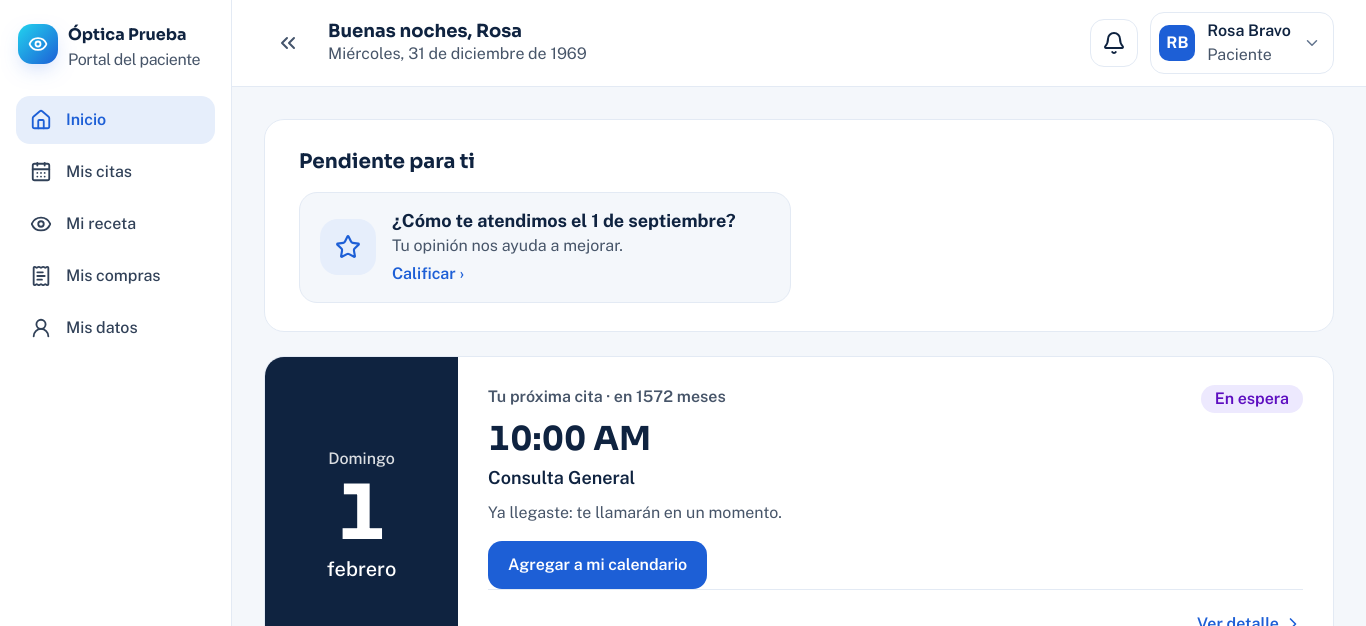
Test: Mis citas › cada fila del historial abre su detalle y, en una atendida, deja calificar una sola vez
The width and height of the screenshot is (1366, 626).
Click the button "Mis citas": (116, 172) [16,148,215,196]
(page scrolled)
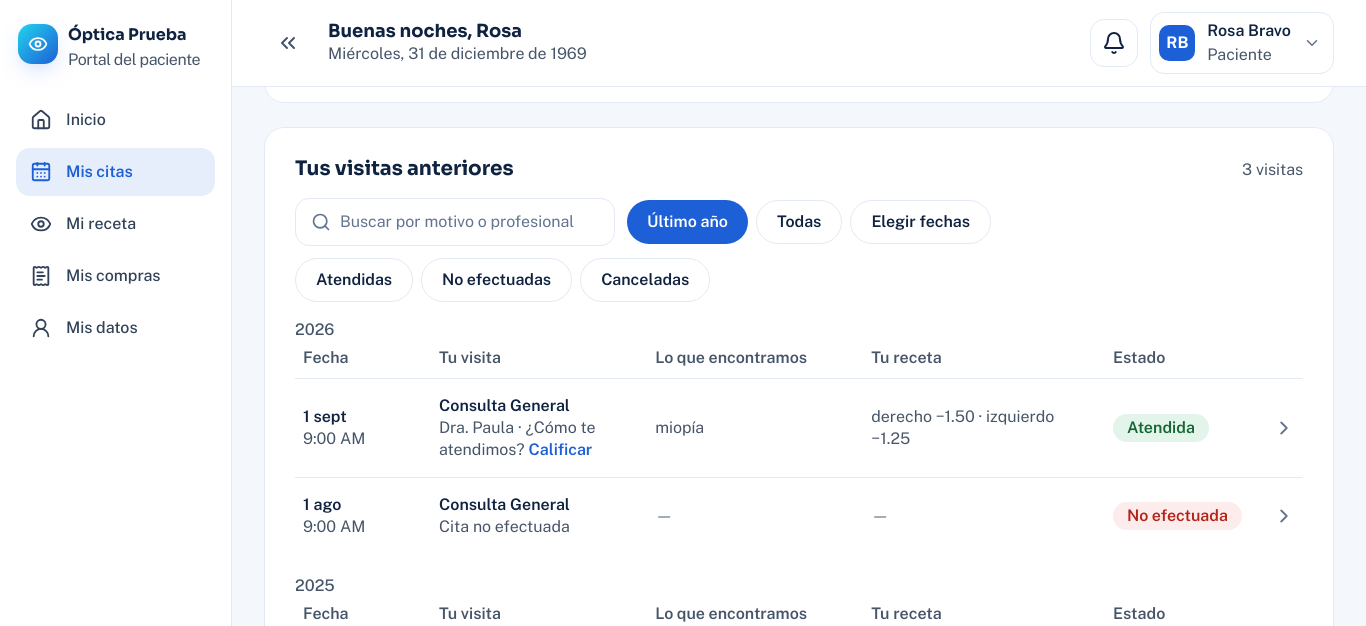
Click the button named "Ver el detalle de tu cita del 1 sept 2026": (799, 428) [295,379,1303,477]
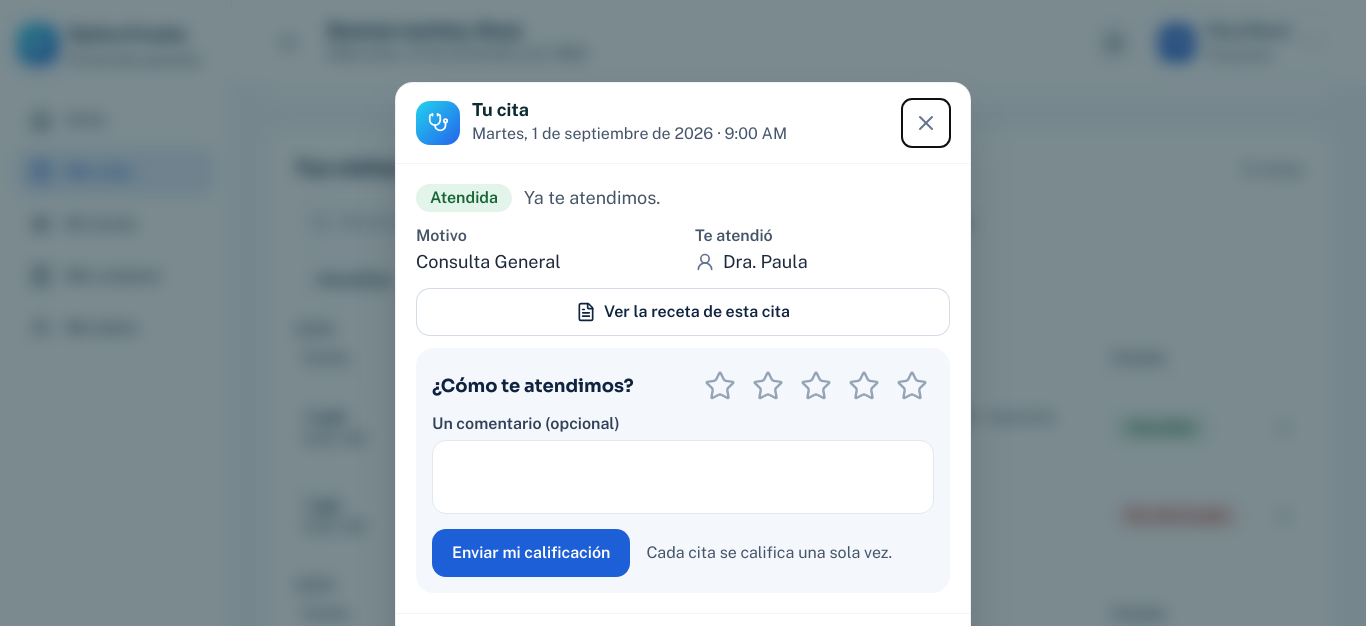
Check: the dialog "Tu cita" shows "Te atendió", box [695,226,773,244]
Check: the dialog "Tu cita" shows "Dra. Paula", box [723,250,808,272]
Check: the button "Ver la receta de esta cita" is shown, box [416,288,950,336]
Click the button "Enviar mi calificación": (531, 552) [432,528,630,576]
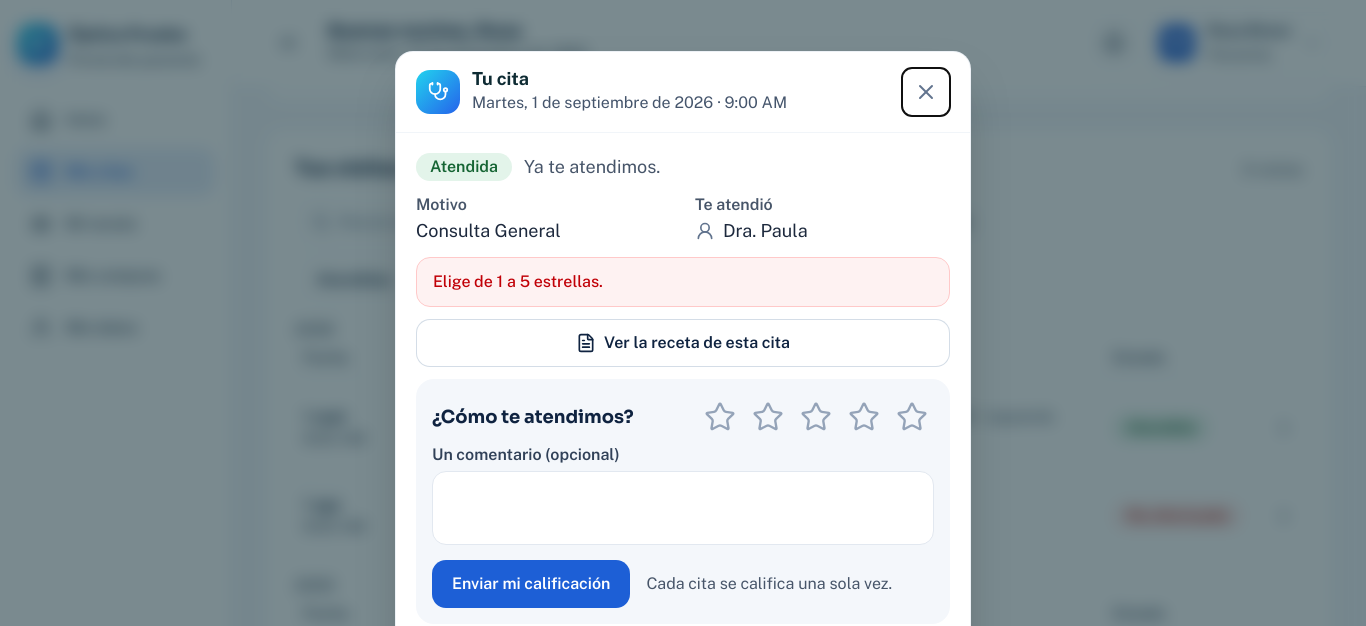
Check: the message "Elige de 1 a 5 estrellas." is shown, box [416,256,950,306]
Click the radio button named "4 de 5": (864, 416) [842,394,886,438]
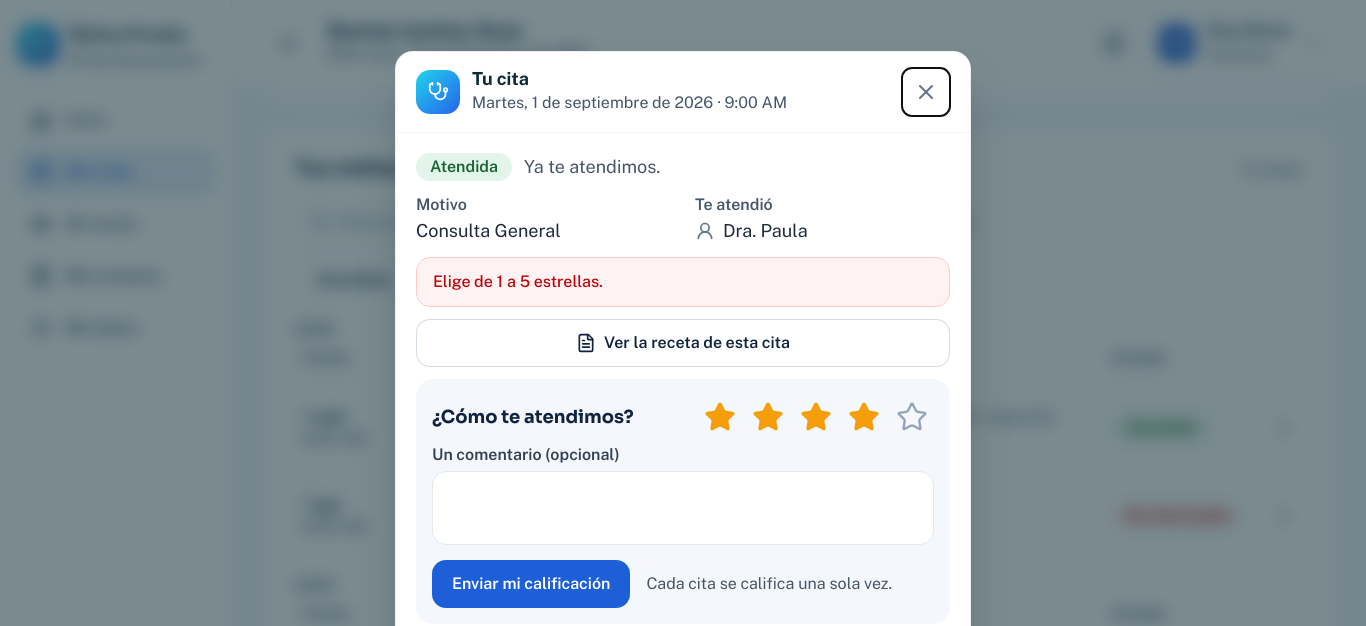
In the text box labelled "Un comentario (opcional)": (683, 508) [432,470,934,544], type "Muy amable"
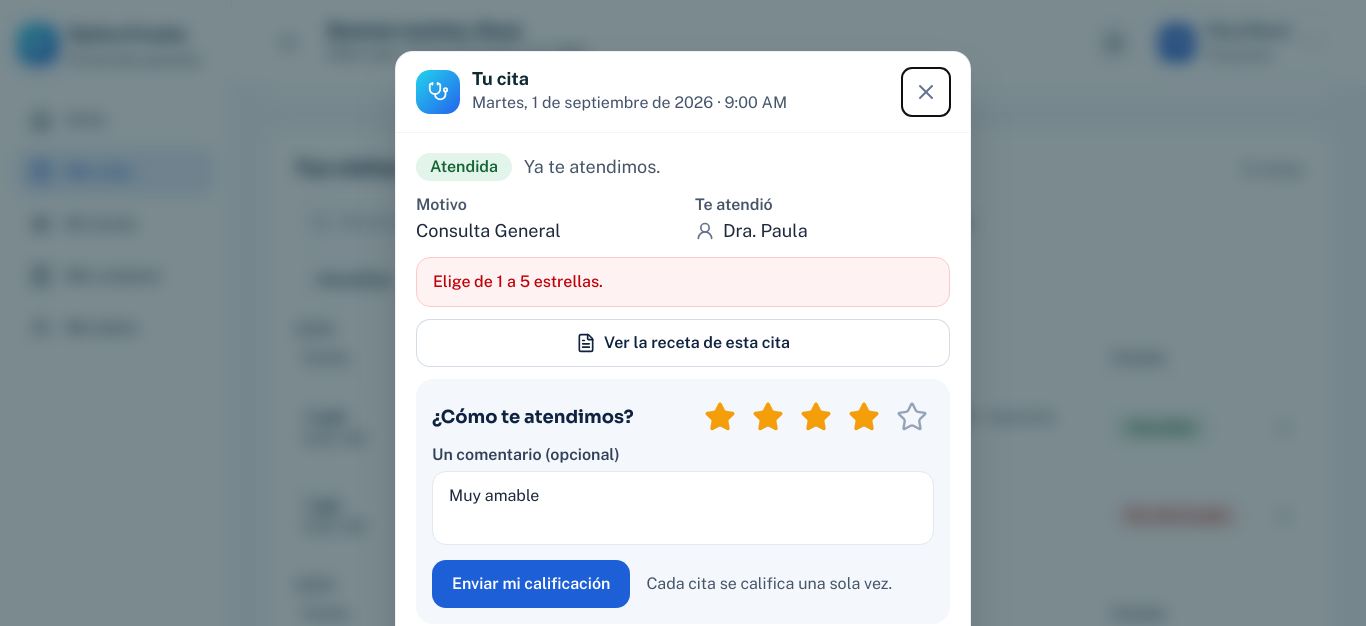
Click the button "Enviar mi calificación": (531, 584) [432,560,630,608]
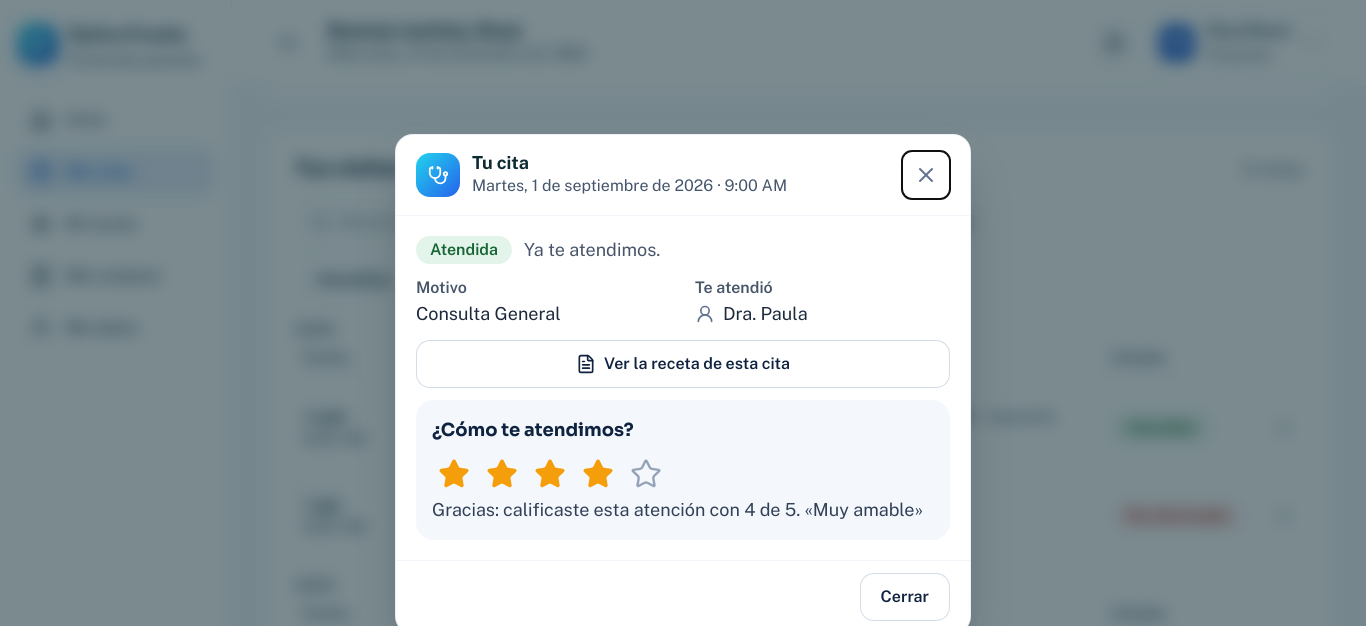
Check: the text "Gracias: calificaste esta atención con 4 de 5. «Muy amable»" is shown, box [432,496,934,524]
Check: the button "Enviar mi calificación" is gone
